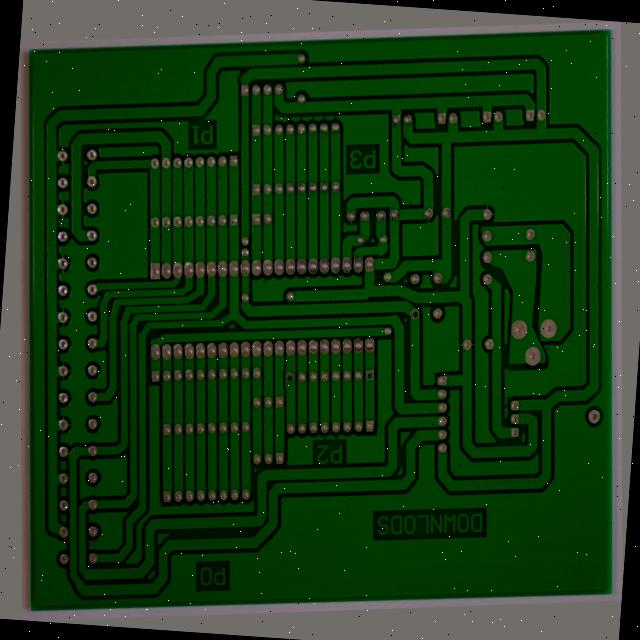missing_hole: (411, 312, 429, 333), (360, 374, 375, 394), (277, 368, 290, 388)
